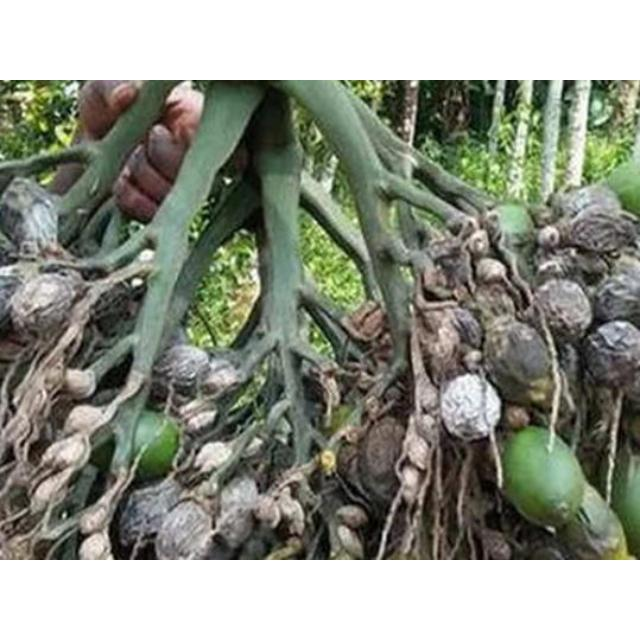damaged: (118, 482, 182, 552), (155, 498, 215, 560), (214, 476, 262, 548), (152, 344, 212, 398), (90, 282, 140, 338), (430, 242, 474, 294), (39, 436, 89, 476), (198, 358, 244, 400), (32, 470, 76, 510), (65, 405, 111, 439), (192, 441, 234, 477), (402, 426, 433, 472), (449, 307, 483, 348), (5, 413, 38, 451), (78, 501, 114, 535), (414, 376, 442, 418), (182, 406, 220, 436), (278, 494, 306, 534), (64, 366, 96, 399), (268, 440, 298, 474), (578, 444, 602, 484), (78, 533, 112, 561), (476, 257, 508, 285), (254, 496, 282, 526), (398, 463, 422, 497), (335, 505, 369, 529), (412, 412, 438, 443), (466, 228, 490, 256), (504, 406, 532, 430), (536, 224, 560, 250), (462, 350, 486, 372), (200, 480, 220, 500)
